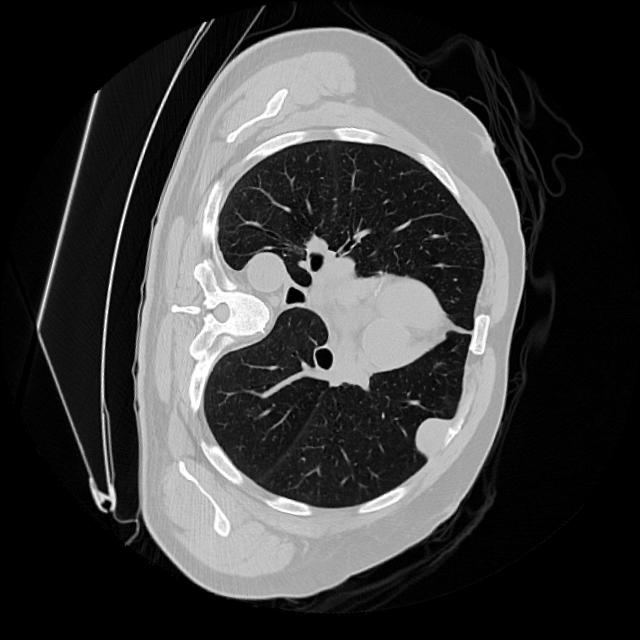nodule: (386, 392, 476, 482)
